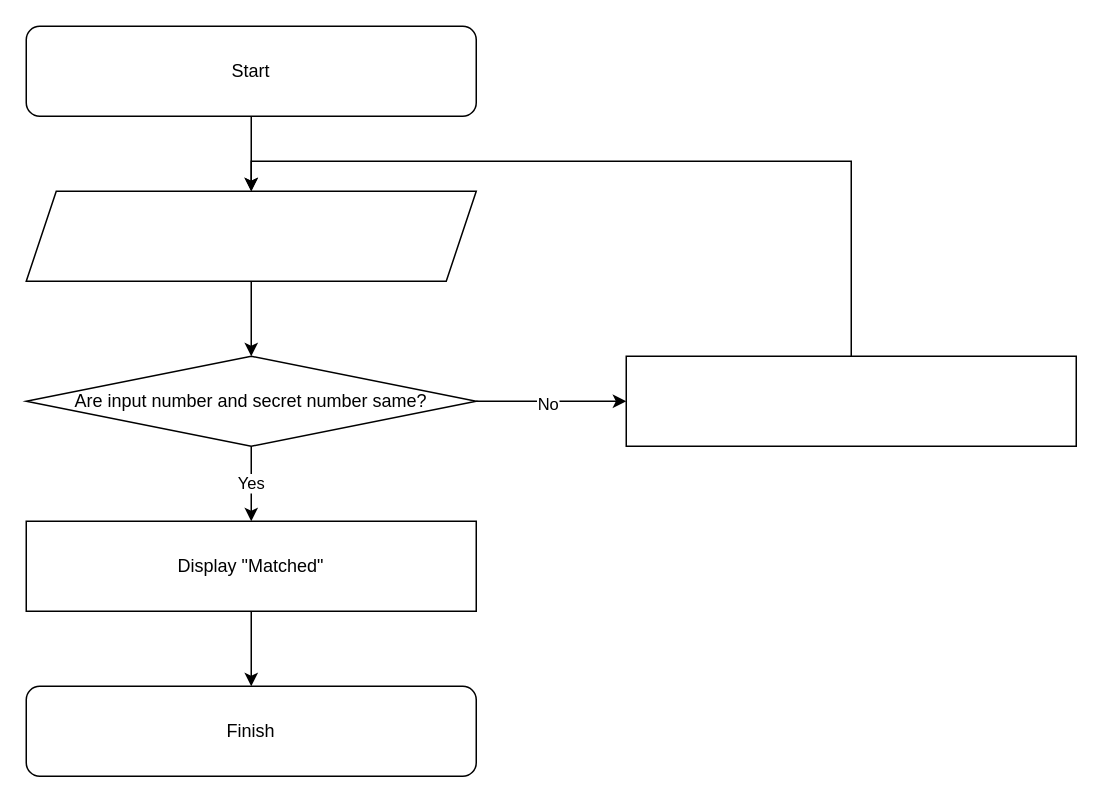
Image size: 1103x803. Some labels were removed from this diagram. Each missing label, with the box of its shape:
Display "Not Matched": (625, 355, 1076, 446)
Input number from 1 - 10: (25, 190, 476, 281)
